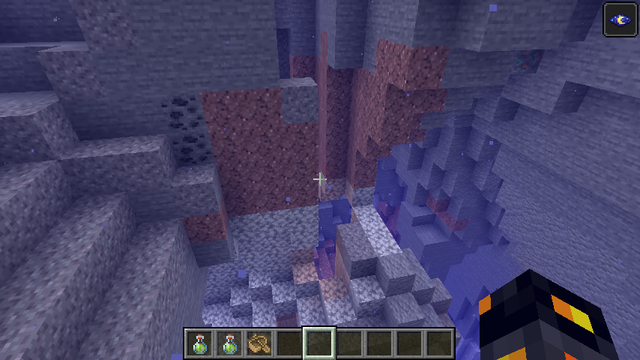coal: (160, 98, 219, 165)
